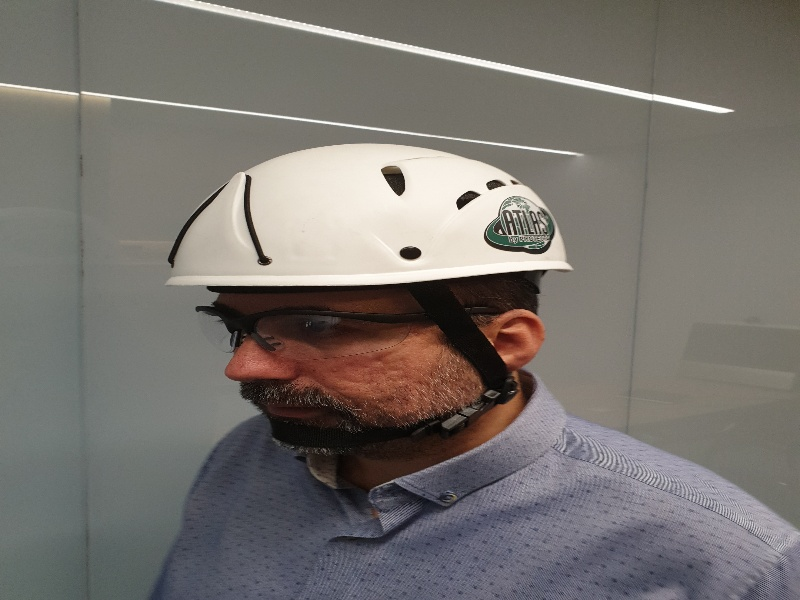Baret: (169, 141, 576, 278)
Gozluk: (190, 304, 503, 352)
